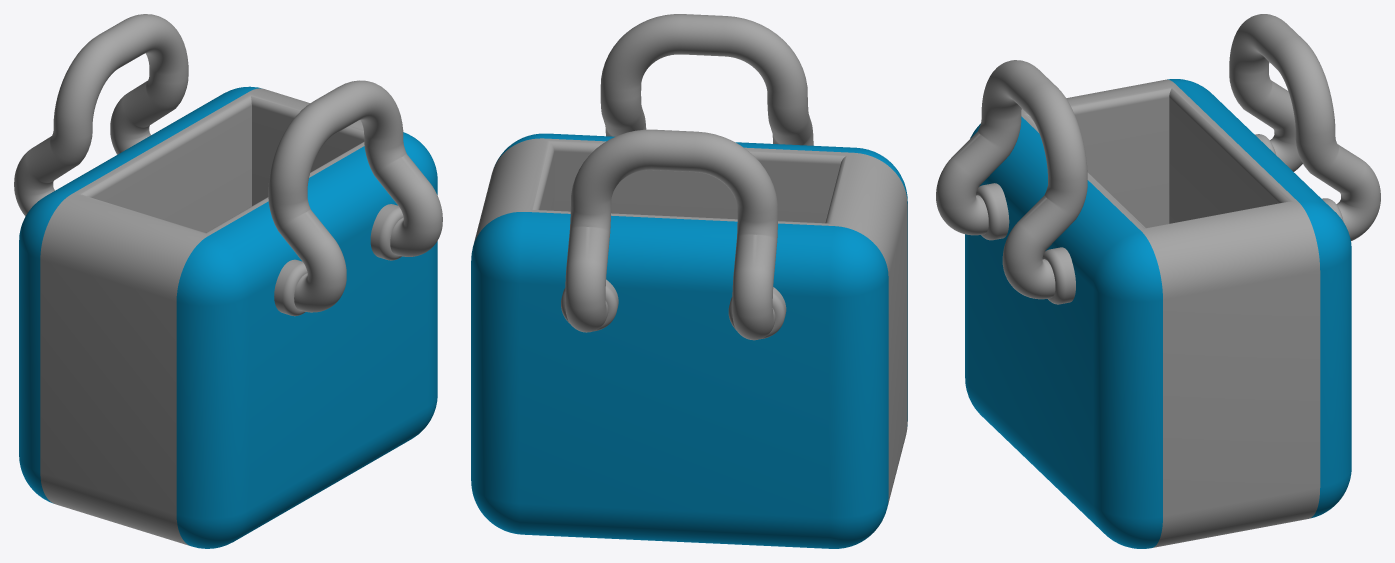
The model's file is -app-store-3d-animated-icon-1097487499566.glb.
3 views of the same model, side by side, from view 1: azimuth 30°, elevation 25°; view 2: azimuth 150°, elevation 25°; view 3: azimuth 270°, elevation 25° (orthographic). The views are drawn at different scales.
Parts seen in each view (by area): view 1: Cube, Plane, Cylinder; view 2: Cube, Plane, Cylinder; view 3: Cube, Plane, Cylinder.
Part boxes in pixels (x1,y1,x2,y2): Cube: (19,86,437,548); Plane: (14,14,442,312); Cylinder: (274,204,403,316); Cube: (471,133,907,548); Plane: (565,14,813,340); Cylinder: (561,279,786,339); Cube: (965,79,1351,548); Plane: (936,14,1380,299); Cylinder: (976,134,1343,304).
Size of what is drawn, in the model's own units: 1.52 by 1.54 by 1.49.
